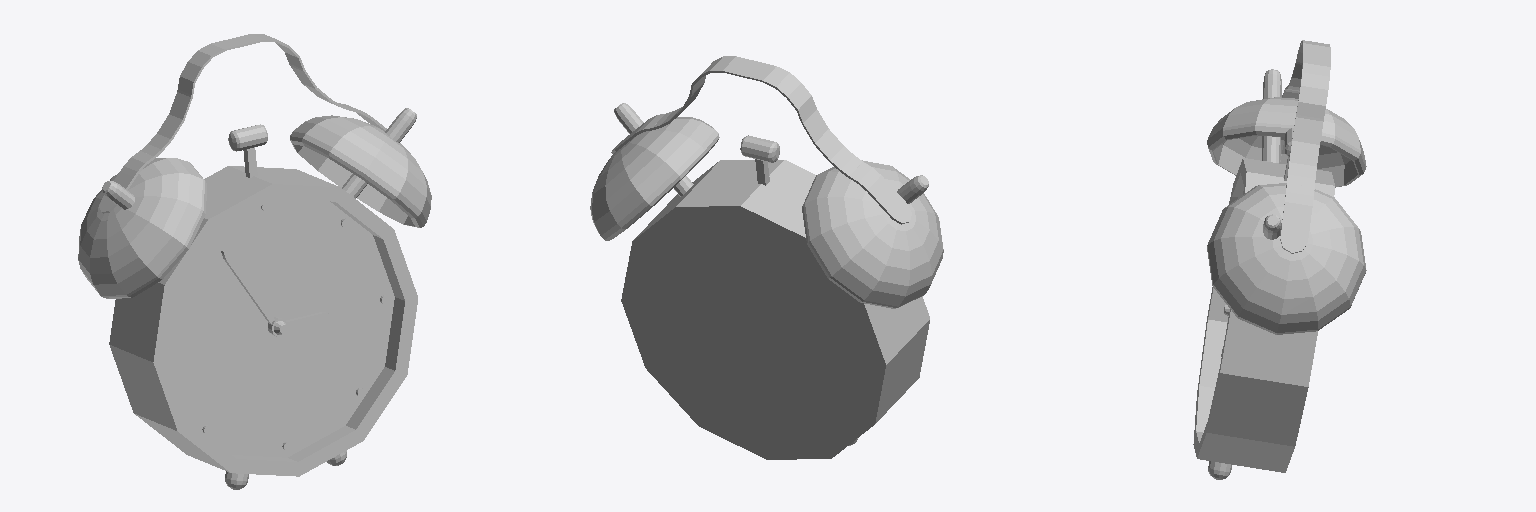
Rendered from AlarmClock.obj.
The picture shows the model from 3 angles: view 1: azimuth 30°, elevation 25°; view 2: azimuth 150°, elevation 25°; view 3: azimuth 270°, elevation 25°; orthographic projection.
Visible parts, largest first — view 1: Cylinder.008, Cylinder.012, Cylinder.011, Cube.020; view 2: Cylinder.008, Cylinder.012, Cylinder.011; view 3: Cylinder.012, Cylinder.008, Cylinder.011.
Part boxes in pixels (bbox=[...]): Cylinder.008: bbox=[109, 166, 417, 476]; Cylinder.012: bbox=[78, 34, 431, 298]; Cylinder.011: bbox=[102, 108, 416, 209]; Cube.020: bbox=[221, 251, 330, 327]; Cylinder.008: bbox=[621, 160, 929, 459]; Cylinder.012: bbox=[590, 56, 943, 308]; Cylinder.011: bbox=[614, 103, 928, 203]; Cylinder.012: bbox=[1207, 40, 1366, 334]; Cylinder.008: bbox=[1193, 158, 1334, 472]; Cylinder.011: bbox=[1262, 69, 1281, 239].
Bounding box in the file's own units: 0.6932 × 0.8146 × 0.3147.